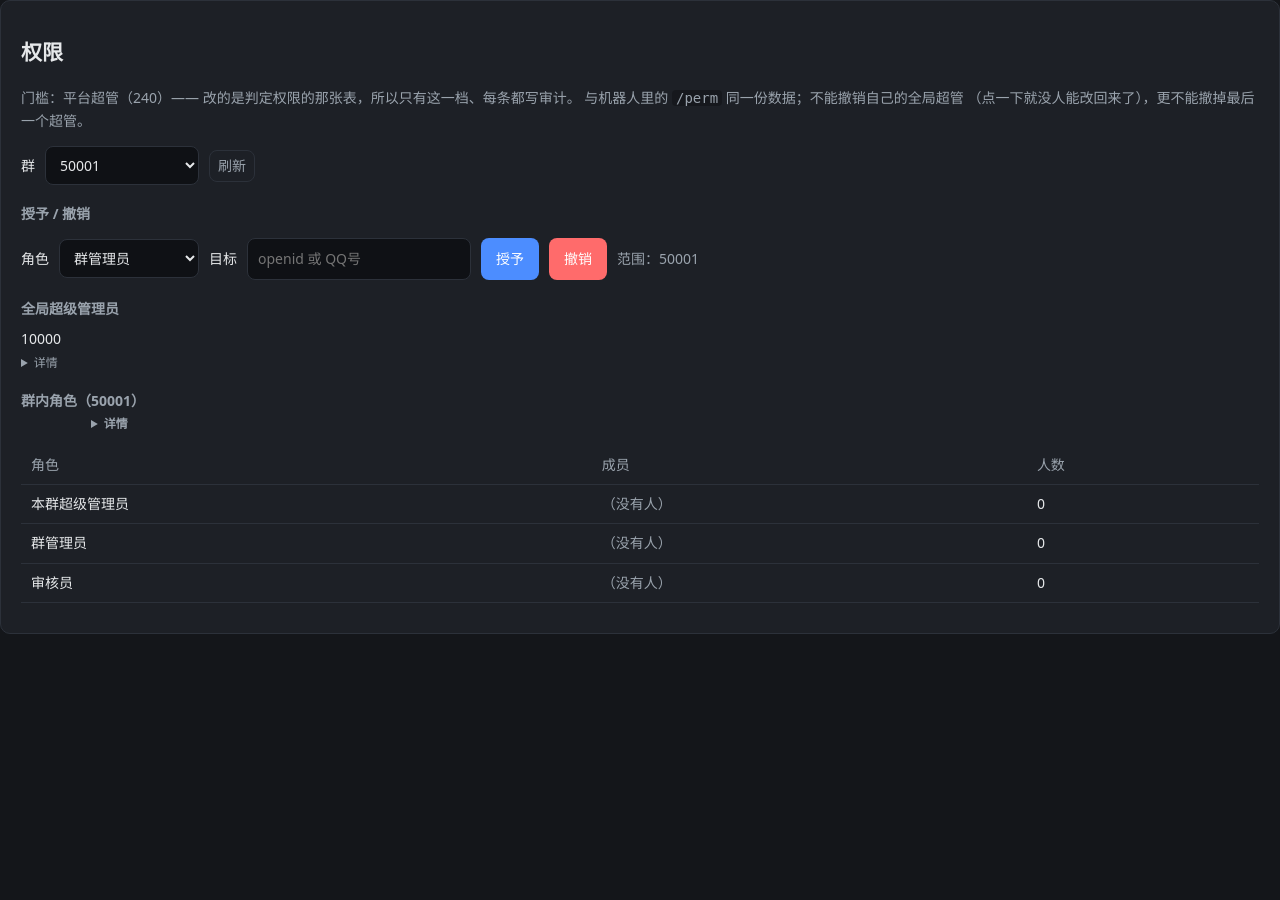
Scenario: PermissionsView › 撤销：确认文案写明「会失去什么」，危险按钮带 danger
The width and height of the screenshot is (1280, 900).
Select "审核员" in the dropdown labelled "角色" at (129, 259), box [59,239,199,278]
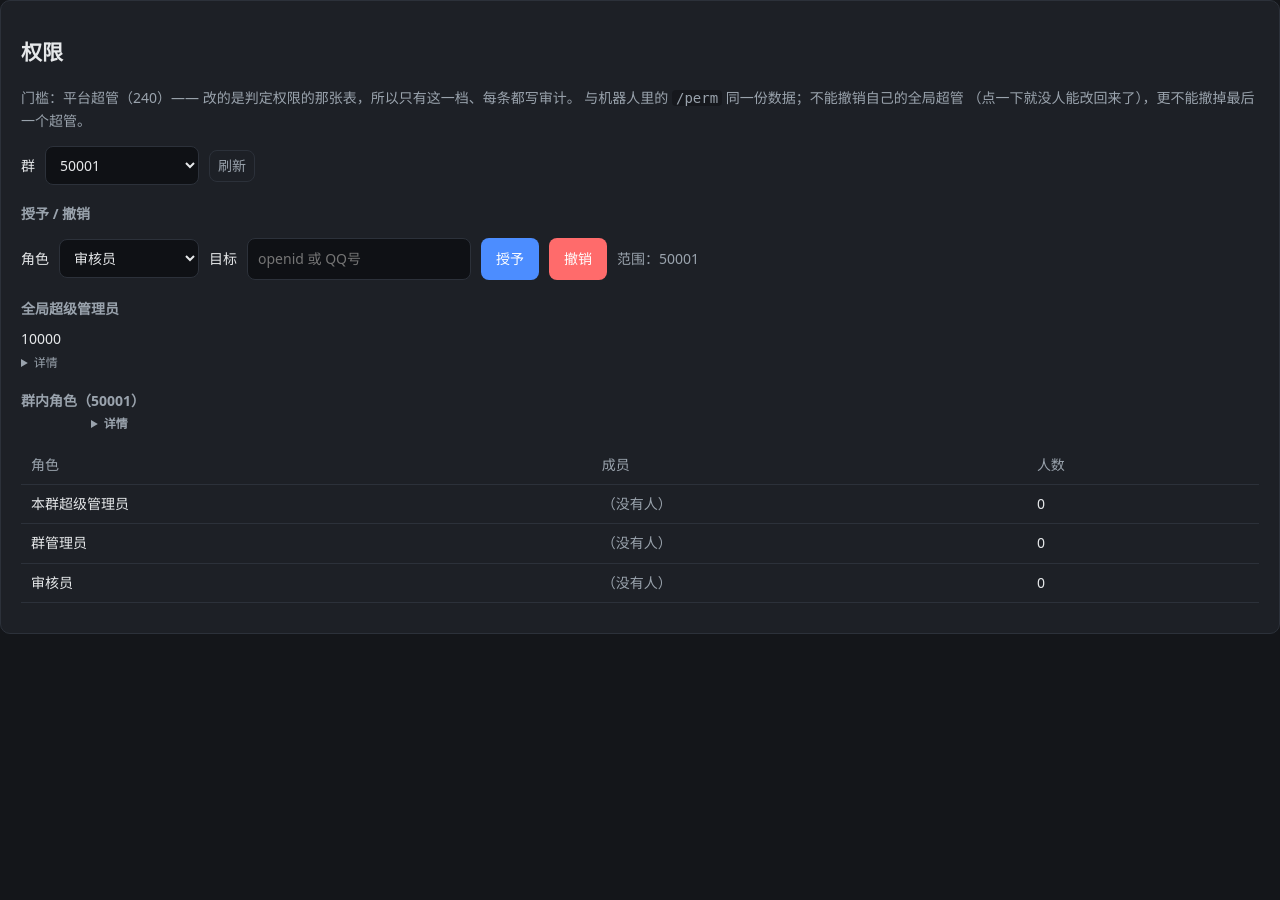
Type "10001" into the field labelled "目标" at (359, 259), box [247,238,471,280]
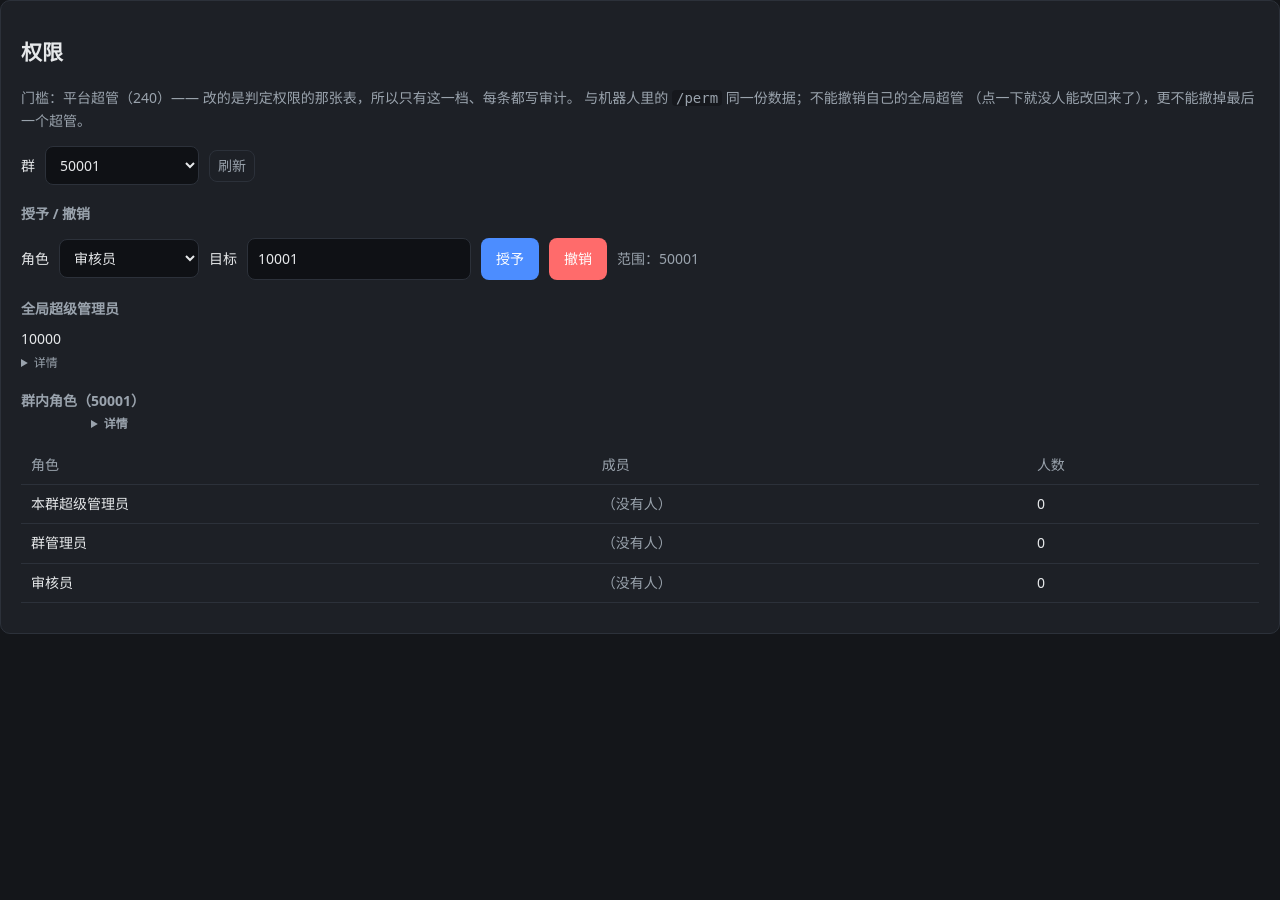
Click the button "撤销" at (578, 259), box [549,238,607,280]
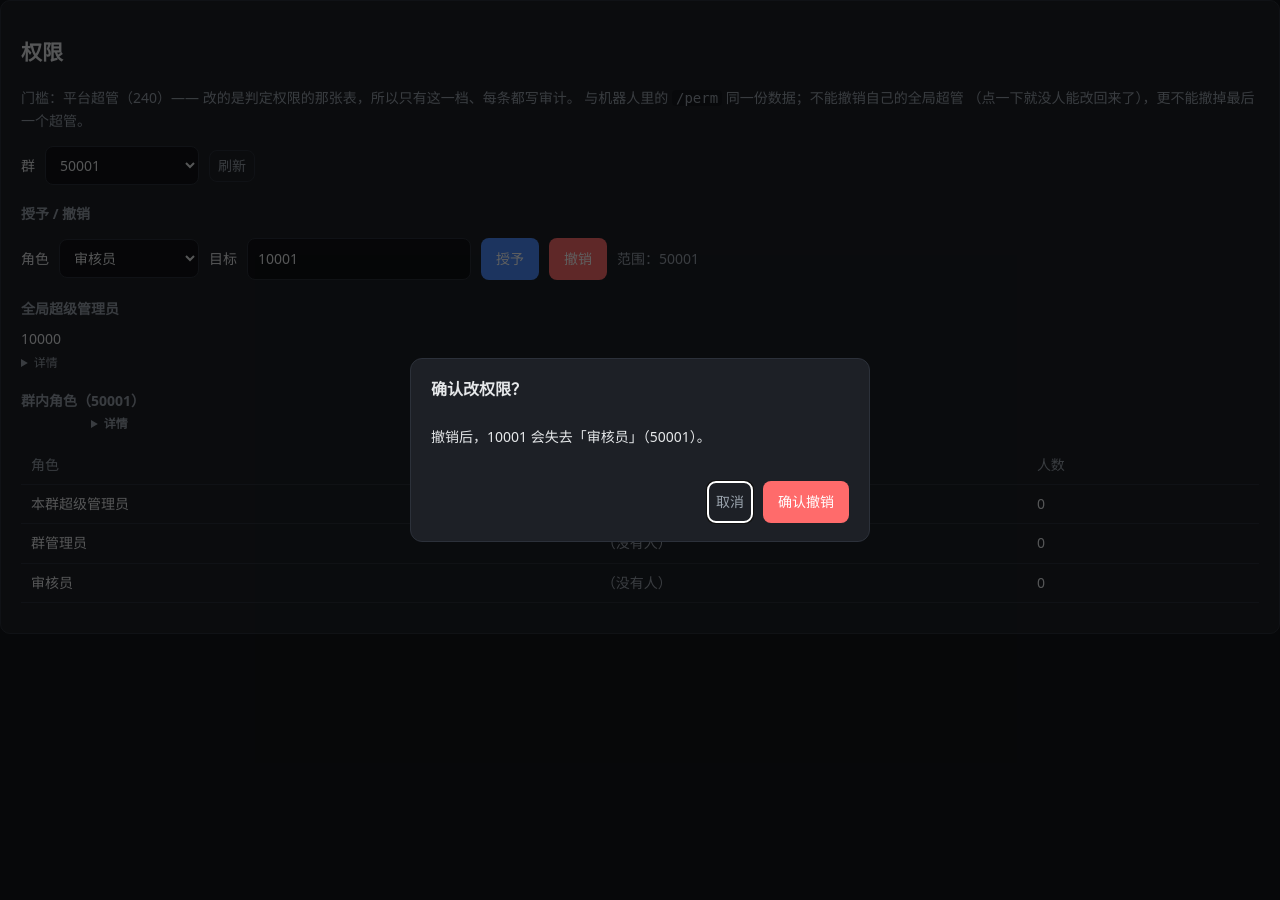
Check: the text "撤销后" is shown, box [431,427,711,446]
Check: the text "会失去" is shown, box [431,427,711,446]
Click the button "确认撤销" at (806, 502), box [763,481,849,523]
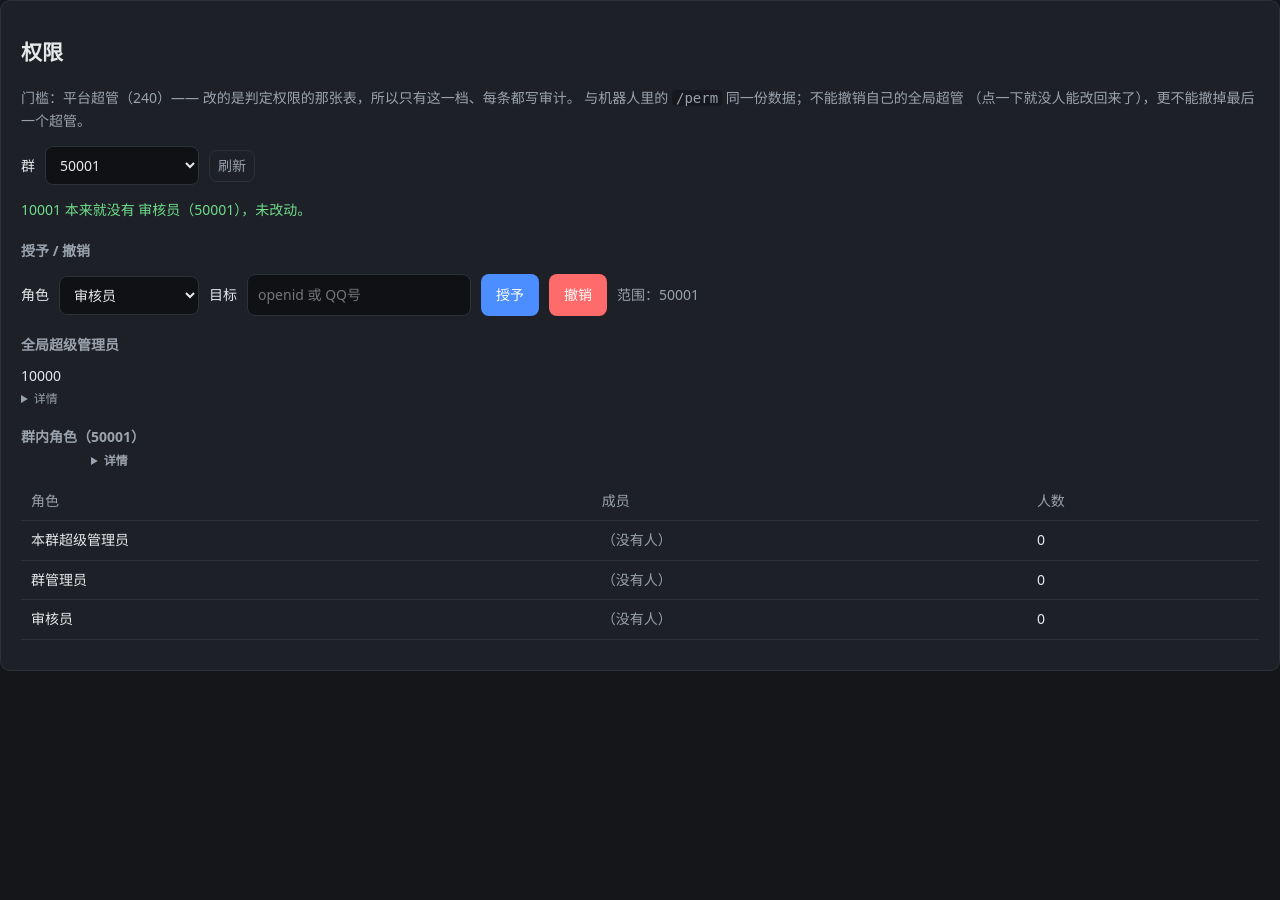
Check: the text "10001 本来就没有 审核员（50001），未改动。" is shown, box [21,200,311,219]
